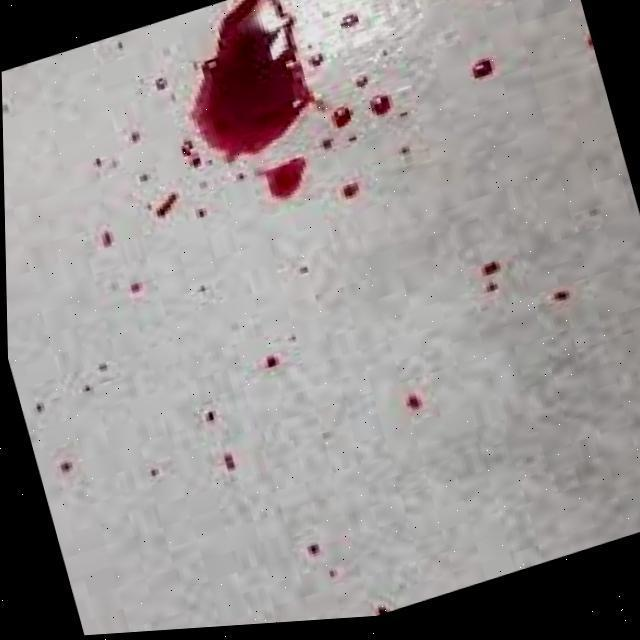knife: (190, 0, 312, 164), (256, 160, 306, 202), (154, 188, 181, 219), (180, 142, 202, 171), (472, 57, 494, 79), (317, 132, 340, 153), (370, 94, 392, 115), (331, 107, 352, 128), (406, 394, 425, 414), (222, 451, 238, 473), (97, 230, 114, 250), (340, 182, 361, 198), (340, 13, 360, 27), (483, 261, 500, 276), (553, 290, 571, 304), (126, 132, 142, 145), (265, 354, 279, 368), (306, 544, 320, 558), (309, 54, 324, 67), (129, 282, 143, 295), (355, 76, 370, 88), (485, 283, 500, 293), (197, 208, 207, 219), (156, 79, 166, 90), (328, 574, 333, 581)
